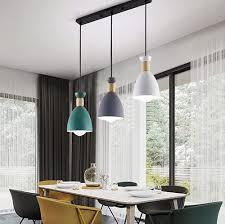chair: (134, 181, 191, 223), (35, 192, 101, 224), (157, 200, 225, 224), (99, 178, 139, 216), (6, 184, 41, 223), (37, 180, 77, 202)
light: (97, 0, 125, 126), (69, 4, 93, 137), (131, 0, 162, 102)
table: (45, 183, 189, 224)
